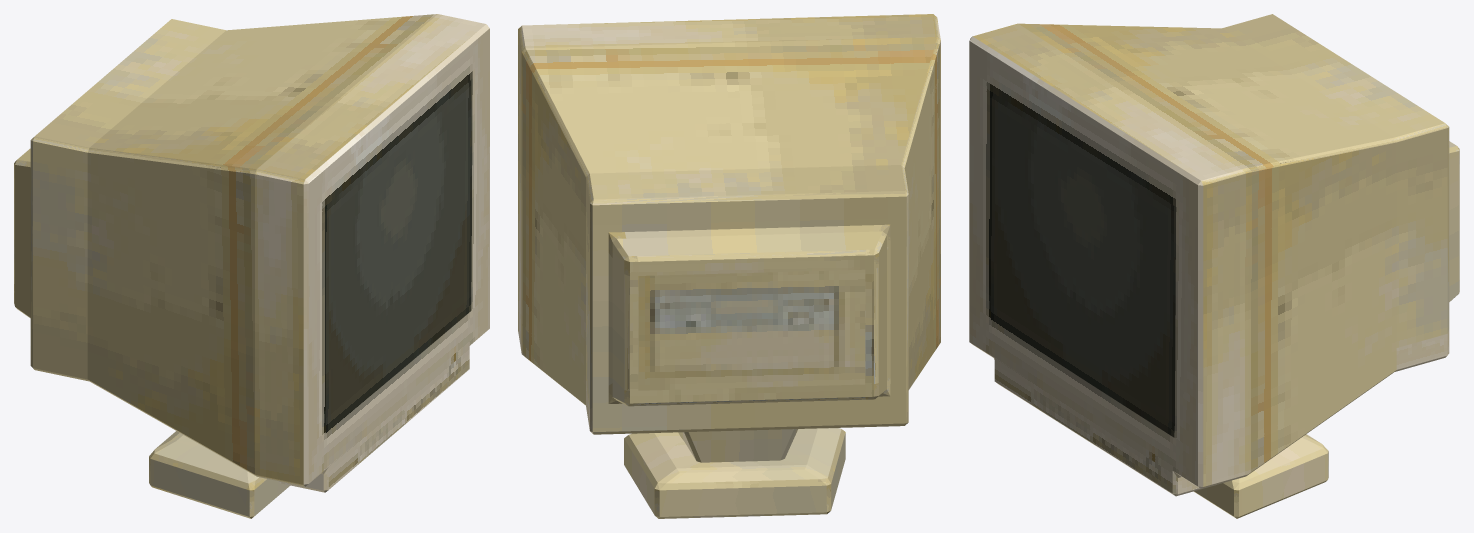
File: monitor.glb
3 views of the same model, side by side, from view 1: azimuth 30°, elevation 25°; view 2: azimuth 150°, elevation 25°; view 3: azimuth 270°, elevation 25° (orthographic).
Visible parts, largest first — view 1: Monitor Plainde_Material.003_0; view 2: Monitor Plainde_Material.003_0; view 3: Monitor Plainde_Material.003_0.
Part boxes in pixels (x1=…): Monitor Plainde_Material.003_0: x1=14, y1=14, x2=489, y2=518; Monitor Plainde_Material.003_0: x1=518, y1=14, x2=940, y2=518; Monitor Plainde_Material.003_0: x1=969, y1=14, x2=1459, y2=518.
Size of the model in its own units: 2.53 by 2.27 by 2.53.
Materials: 1 (1 with a texture image).
